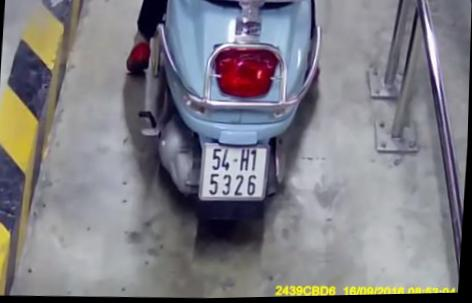LP: (201, 143, 272, 203)
